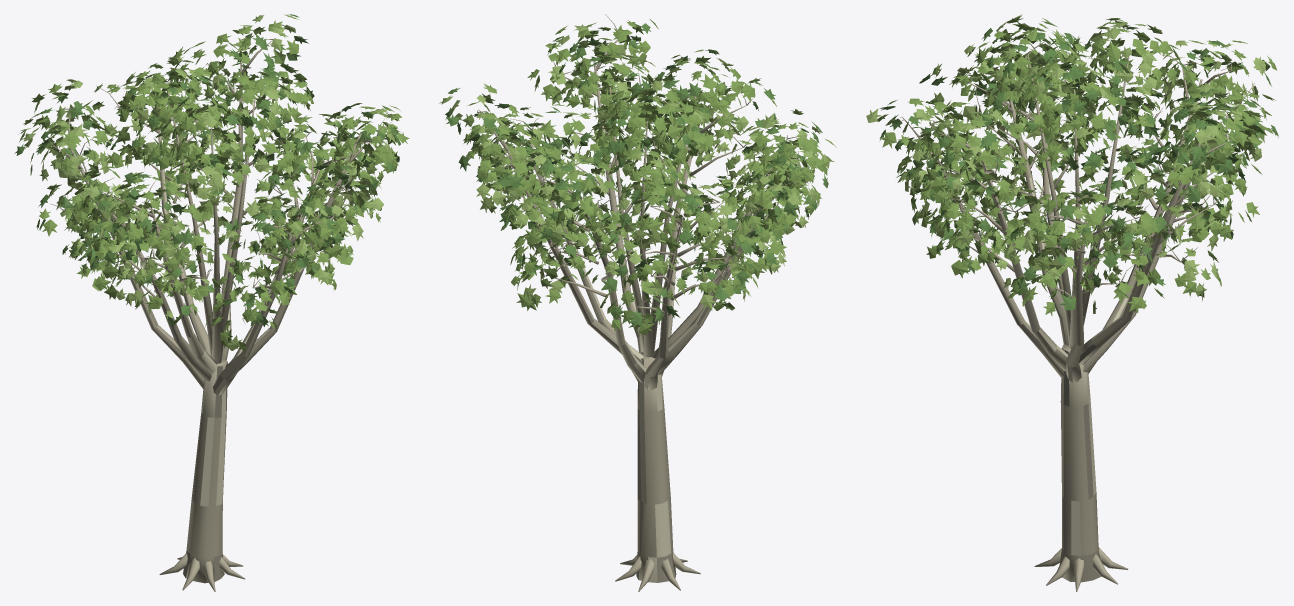
Rendered from tree_plane_a.glb.
The picture shows the model from 3 angles, left to right: view 1: azimuth 30°, elevation 25°; view 2: azimuth 150°, elevation 25°; view 3: azimuth 270°, elevation 25°; orthographic projection. The views are drawn at different scales.
Visible parts, largest first — view 1: tree_plane_a_PlaneLeaf, tree_plane_a_PlaneBark, tree_plane_a_PlaneLeafLight, tree_plane_a_PlaneLeafDark, tree_plane_a_PlaneBarkPale, tree_plane_a_PlaneBarkBrown; view 2: tree_plane_a_PlaneLeaf, tree_plane_a_PlaneBark, tree_plane_a_PlaneLeafLight, tree_plane_a_PlaneLeafDark, tree_plane_a_PlaneBarkPale, tree_plane_a_PlaneBarkBrown; view 3: tree_plane_a_PlaneLeaf, tree_plane_a_PlaneBark, tree_plane_a_PlaneLeafLight, tree_plane_a_PlaneLeafDark, tree_plane_a_PlaneBarkPale, tree_plane_a_PlaneBarkBrown.
Part boxes in pixels (x1=…): tree_plane_a_PlaneLeaf: x1=19, y1=20, x2=409, y2=352; tree_plane_a_PlaneBark: x1=48, y1=38, x2=392, y2=591; tree_plane_a_PlaneLeafLight: x1=20, y1=14, x2=399, y2=350; tree_plane_a_PlaneLeafDark: x1=14, y1=14, x2=400, y2=341; tree_plane_a_PlaneBarkPale: x1=110, y1=70, x2=292, y2=553; tree_plane_a_PlaneBarkBrown: x1=80, y1=63, x2=323, y2=581; tree_plane_a_PlaneLeaf: x1=462, y1=19, x2=834, y2=335; tree_plane_a_PlaneBark: x1=477, y1=14, x2=800, y2=591; tree_plane_a_PlaneLeafLight: x1=439, y1=24, x2=836, y2=319; tree_plane_a_PlaneLeafDark: x1=445, y1=23, x2=828, y2=327; tree_plane_a_PlaneBarkPale: x1=503, y1=61, x2=753, y2=582; tree_plane_a_PlaneBarkBrown: x1=530, y1=157, x2=754, y2=582; tree_plane_a_PlaneLeaf: x1=877, y1=16, x2=1278, y2=316; tree_plane_a_PlaneBark: x1=899, y1=41, x2=1254, y2=591; tree_plane_a_PlaneLeafLight: x1=866, y1=14, x2=1271, y2=296; tree_plane_a_PlaneLeafDark: x1=879, y1=26, x2=1278, y2=310; tree_plane_a_PlaneBarkPale: x1=938, y1=80, x2=1210, y2=555; tree_plane_a_PlaneBarkBrown: x1=940, y1=145, x2=1198, y2=582.
Bounding box in the file's own units: 10.03 × 14.77 × 10.23.
